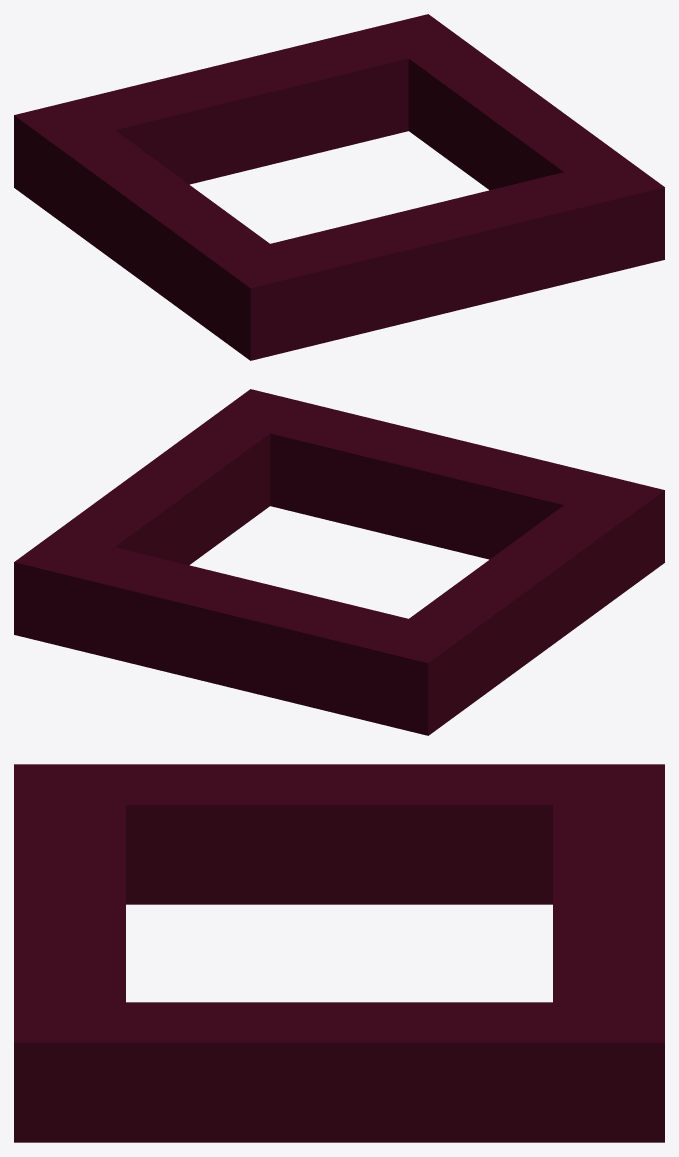
The model's file is sym_hole_square.fbx.
The picture shows the model from 3 angles, top to bottom: view 1: azimuth 30°, elevation 25°; view 2: azimuth 150°, elevation 25°; view 3: azimuth 270°, elevation 25°; orthographic projection. The views are drawn at different scales.
Parts seen in each view (by area): view 1: HoleSquare; view 2: HoleSquare; view 3: HoleSquare.
Part boxes in pixels (box(x1,y1,x2,y2)): HoleSquare: box(14, 14, 664, 360); HoleSquare: box(14, 389, 664, 735); HoleSquare: box(14, 764, 664, 1142).
Bounding box in the file's own units: 396 × 66.24 × 391.
